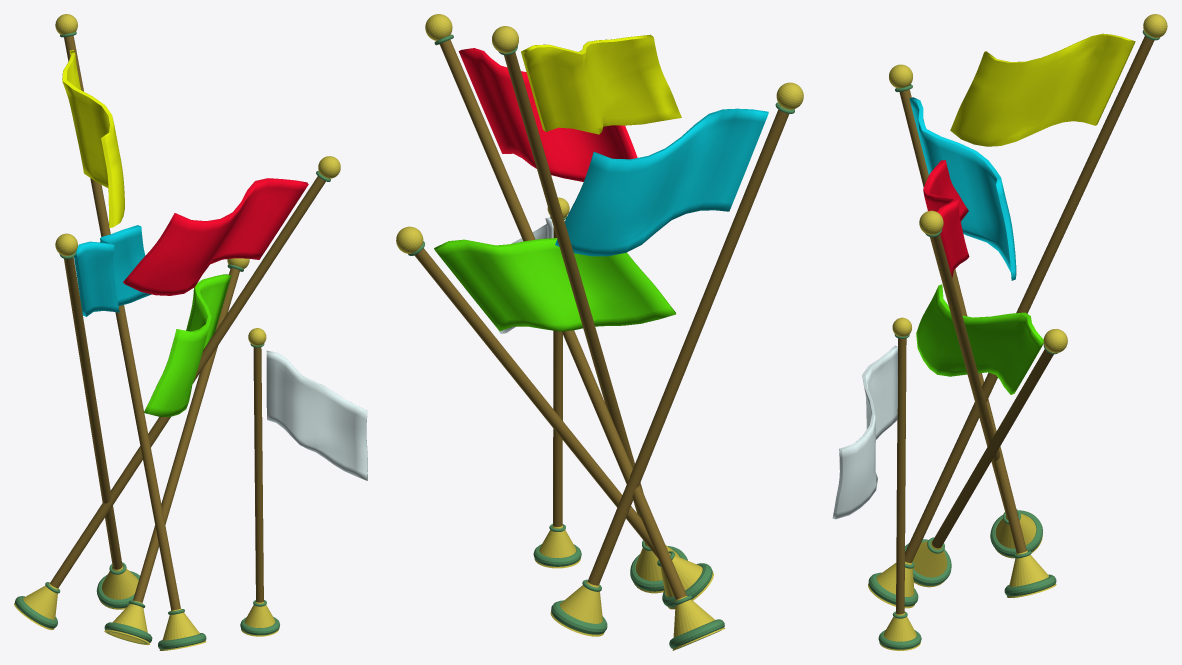
The model's file is flags.glb.
3 views of the same model, side by side, from view 1: azimuth 30°, elevation 25°; view 2: azimuth 150°, elevation 25°; view 3: azimuth 270°, elevation 25° (orthographic). The views are drawn at different scales.
Parts seen in each view (by area): view 1: Torus.007, Torus.001, Cylinder.003, Torus.004, Torus.002; view 2: Torus.004, Torus.002, Cylinder.003, Torus.007, Torus.001; view 3: Cylinder.003, Torus.002, Torus.004, Torus.001, Torus.007.
Boxes of the visible parts, left/top/right/bottom form: Torus.007: left=14, top=156, right=340, bottom=629; Torus.001: left=240, top=328, right=367, bottom=636; Cylinder.003: left=55, top=14, right=206, bottom=650; Torus.004: left=55, top=225, right=151, bottom=609; Torus.002: left=104, top=258, right=249, bottom=645; Torus.004: left=550, top=82, right=803, bottom=636; Torus.002: left=396, top=226, right=713, bottom=609; Cylinder.003: left=492, top=26, right=687, bottom=593; Torus.007: left=425, top=14, right=724, bottom=650; Torus.001: left=498, top=197, right=581, bottom=568; Cylinder.003: left=868, top=14, right=1167, bottom=608; Torus.002: left=905, top=284, right=1067, bottom=587; Torus.004: left=889, top=64, right=1056, bottom=597; Torus.001: left=832, top=317, right=921, bottom=650; Torus.007: left=919, top=160, right=1042, bottom=558.
Bounding box in the file's own units: 7.42 × 13.11 × 6.73.
